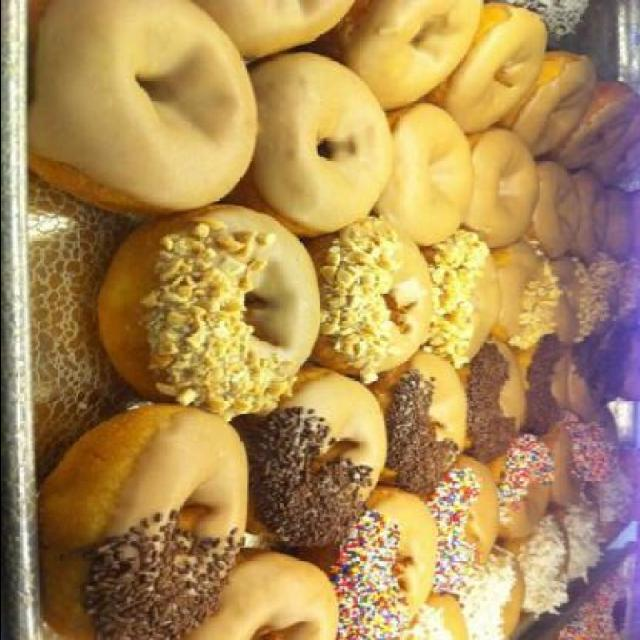Donuts: (36, 1, 638, 639)
